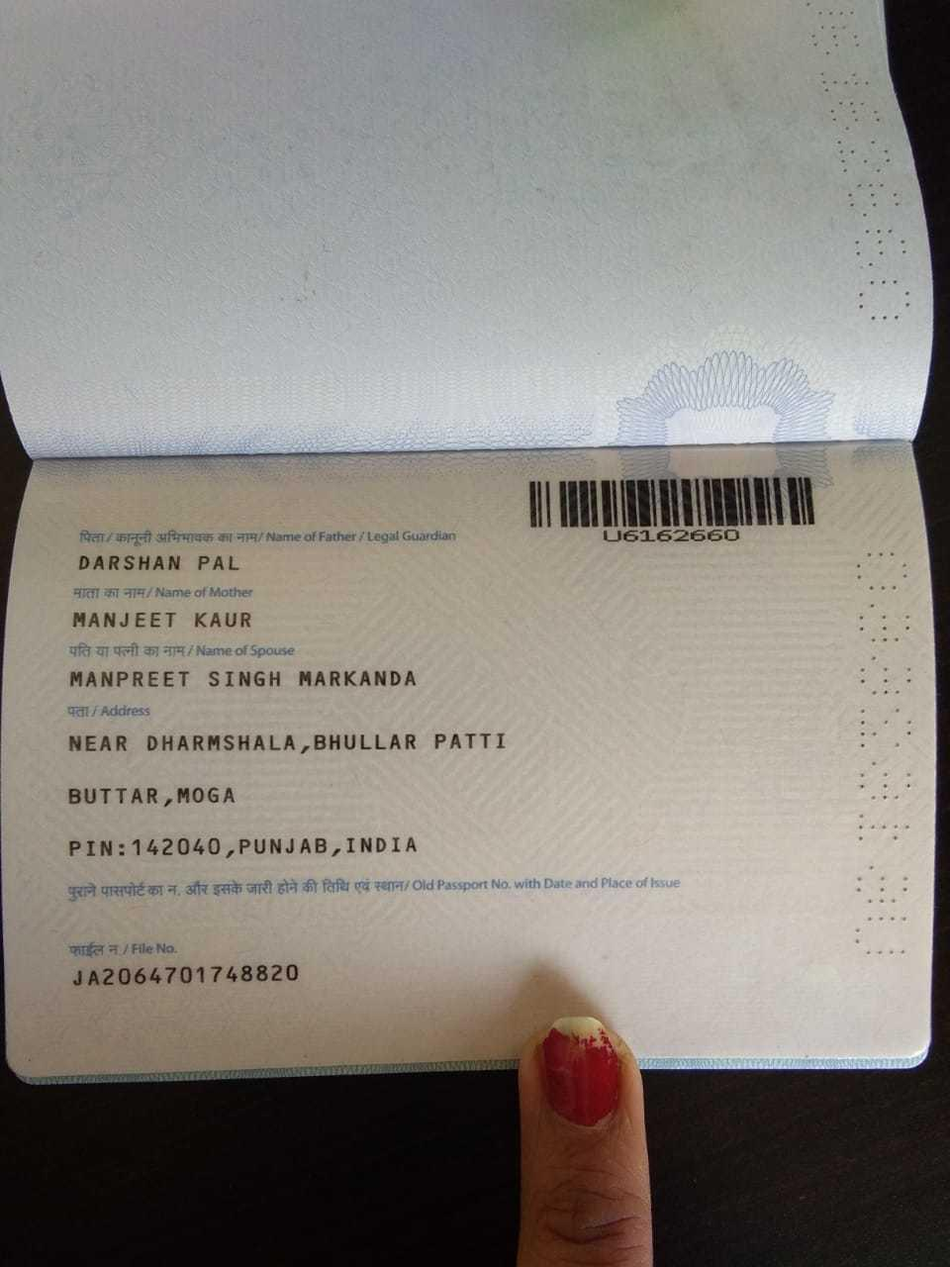File_no: (54, 957, 310, 993)
address: (40, 724, 516, 865)
father_name: (54, 539, 257, 590)
mother_name: (54, 594, 283, 645)
passport_no: (594, 518, 748, 566)
spouse_name: (47, 656, 469, 703)
